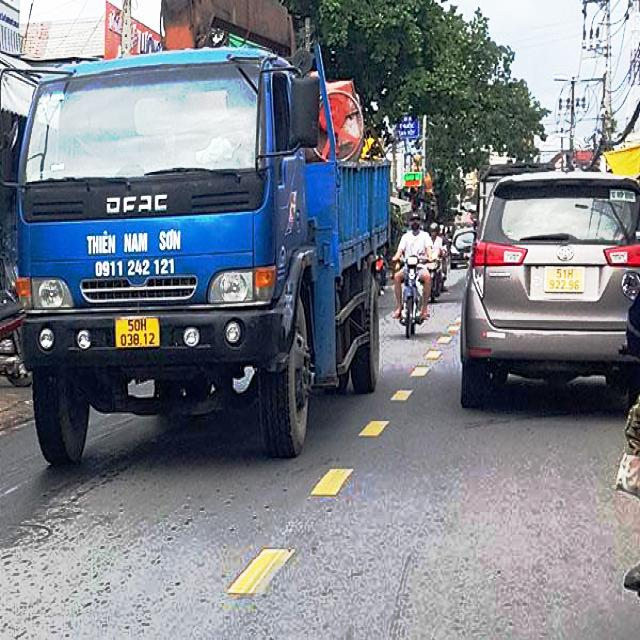license_plate: (116, 316, 160, 348), (545, 267, 586, 293)
